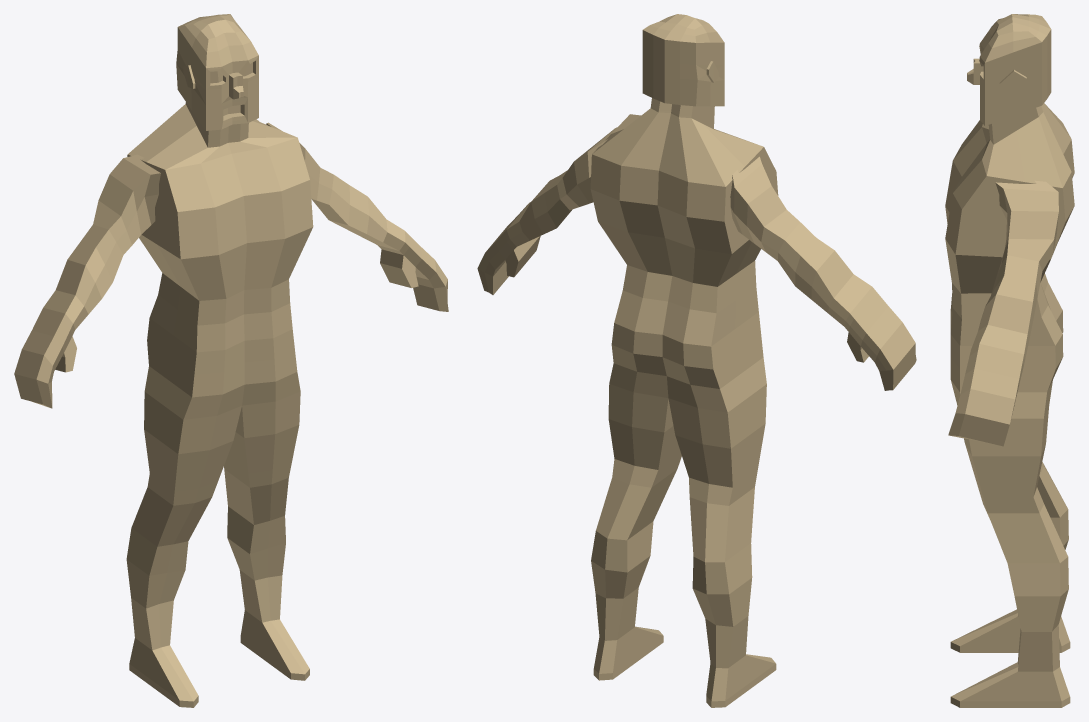
File: Dummy3.fbx
The picture shows the model from 3 angles, left to right: view 1: azimuth 30°, elevation 25°; view 2: azimuth 150°, elevation 25°; view 3: azimuth 270°, elevation 25°; orthographic projection.
Visible parts, largest first — view 1: Cube.001; view 2: Cube.001; view 3: Cube.001.
Part boxes in pixels (bbox=[...]): Cube.001: bbox=[14, 14, 448, 707]; Cube.001: bbox=[477, 14, 916, 707]; Cube.001: bbox=[945, 14, 1074, 707].
Bounding box in the file's own units: 1681 × 2544 × 454.
